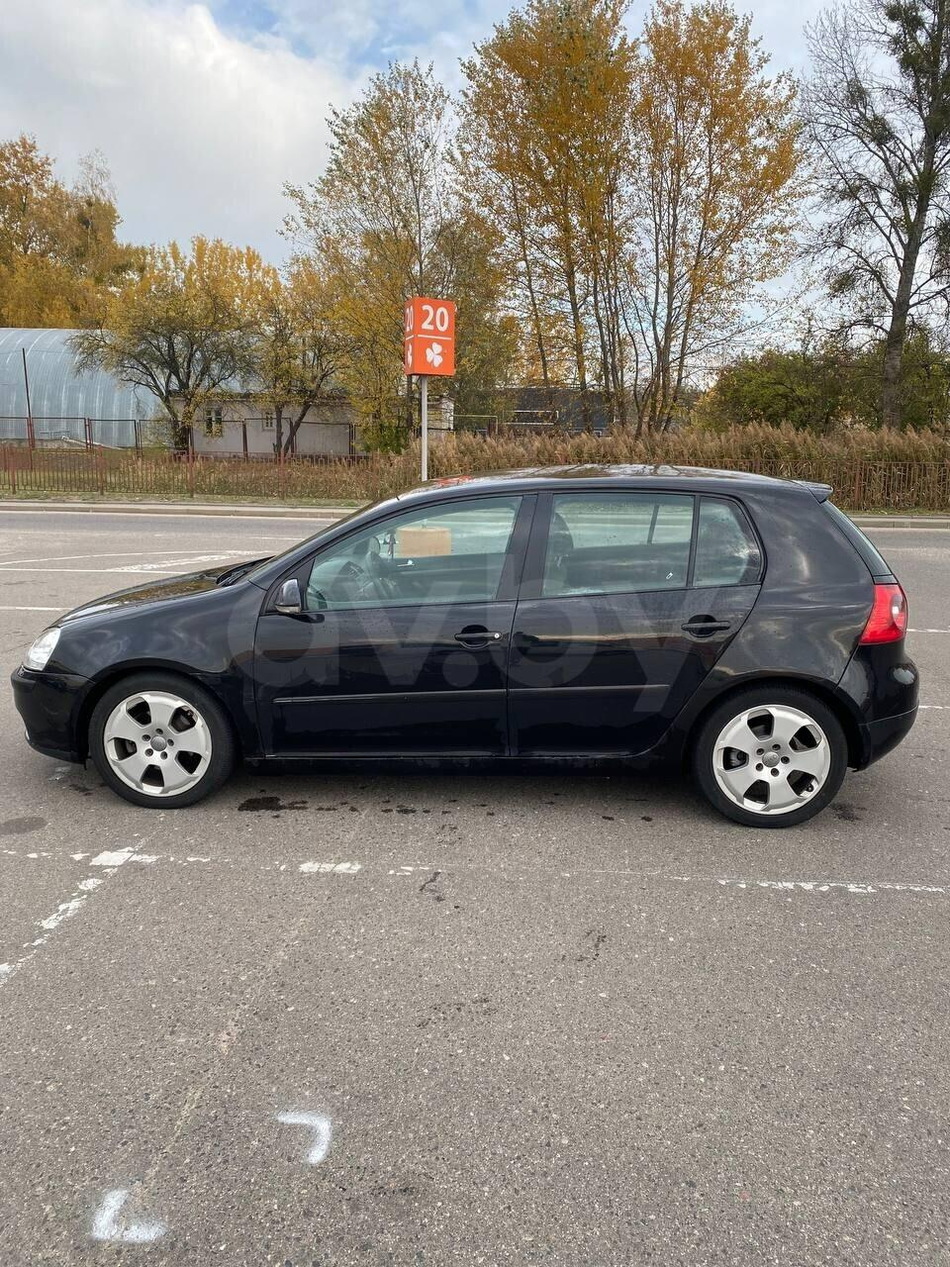Golf_2003-2009: (12, 461, 922, 845)
